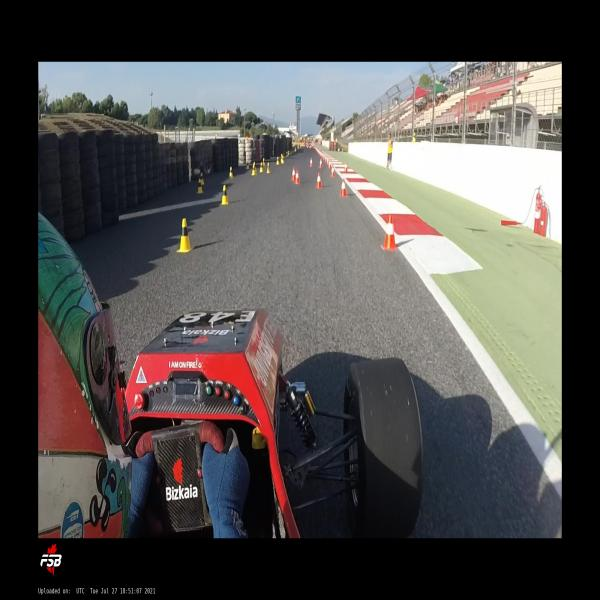orange_cone: (381, 215, 398, 250), (339, 179, 347, 197), (316, 173, 322, 188), (294, 170, 300, 184), (291, 167, 295, 180), (331, 166, 335, 177), (318, 158, 322, 168), (309, 157, 313, 167), (344, 162, 348, 172), (328, 160, 332, 168)
yellow_cone: (177, 219, 193, 252), (221, 185, 228, 205), (197, 178, 203, 193), (228, 166, 234, 179), (251, 164, 256, 176), (200, 172, 204, 184), (245, 160, 250, 169), (266, 163, 270, 174), (259, 162, 263, 172), (253, 162, 257, 172), (276, 157, 280, 164), (262, 158, 265, 166), (282, 156, 284, 164), (280, 155, 282, 161)
